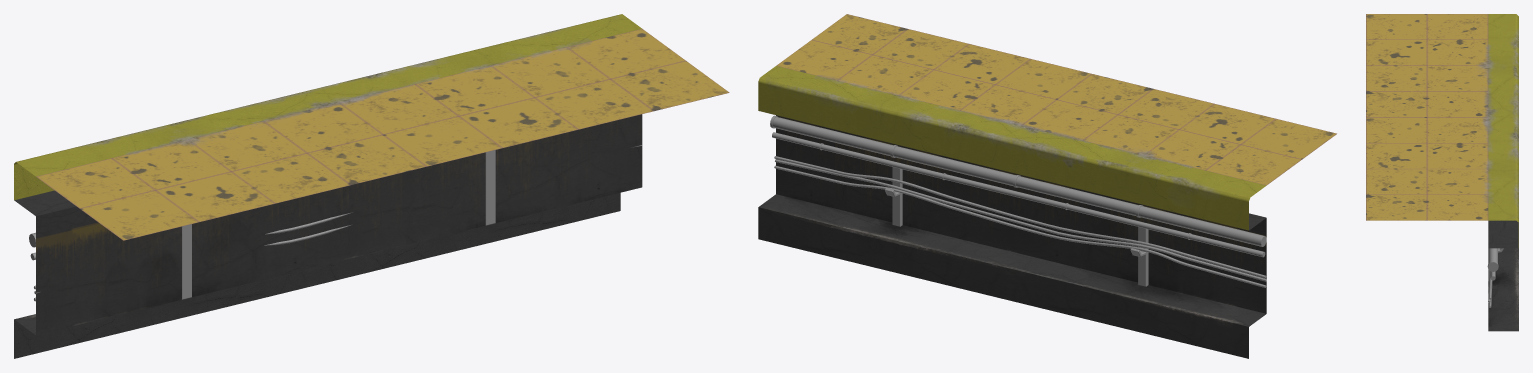
Rendered from platform_edge_a.fbx.
3 views of the same model, side by side, from view 1: azimuth 30°, elevation 25°; view 2: azimuth 150°, elevation 25°; view 3: azimuth 270°, elevation 25° (orthographic). The views are drawn at different scales.
Visible parts, largest first — view 1: platform_edge_a; view 2: platform_edge_a; view 3: platform_edge_a.
Part boxes in pixels (x1,y1,x2,y2): platform_edge_a: [14, 14, 729, 358]; platform_edge_a: [758, 14, 1336, 358]; platform_edge_a: [1366, 14, 1518, 331].
Bounding box in the file's own units: 400 × 125 × 125.
